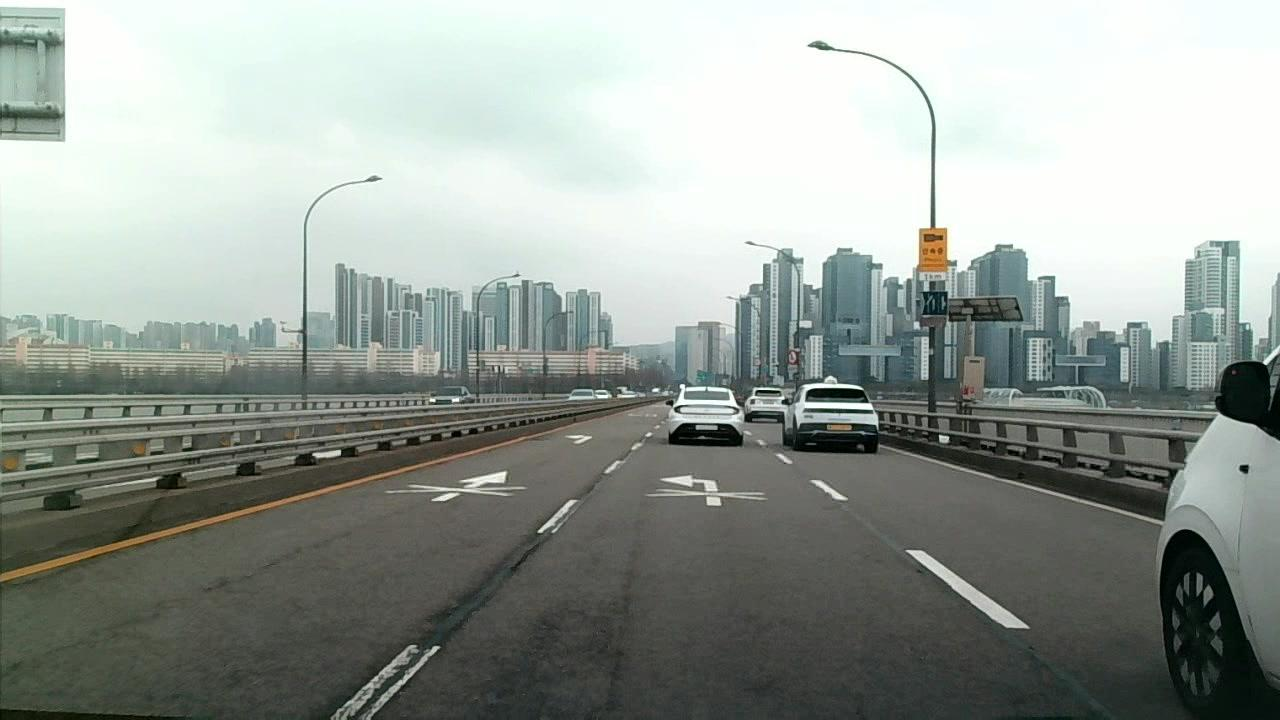vcrack: (16, 595, 177, 678), (201, 521, 354, 593), (431, 532, 536, 635)
